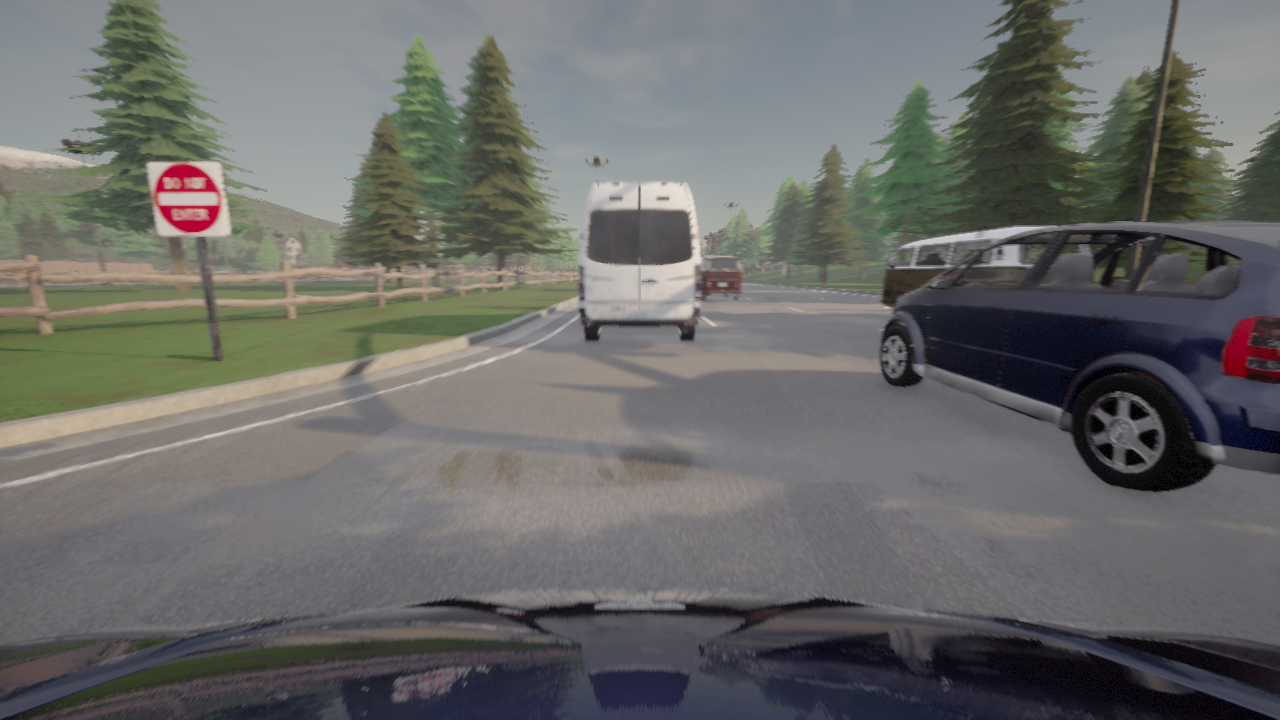cyclist: (0, 588, 1279, 719), (879, 221, 1279, 492), (578, 182, 701, 341), (881, 226, 1057, 311), (701, 256, 742, 300)
